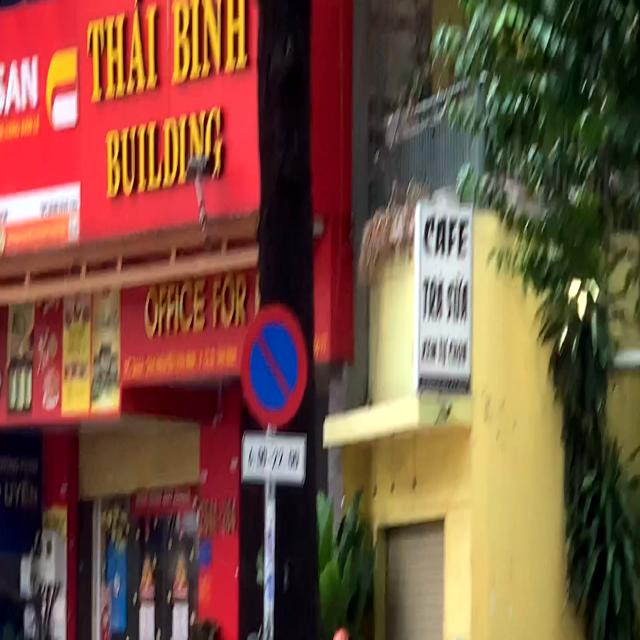P.131a: (240, 304, 307, 428)
